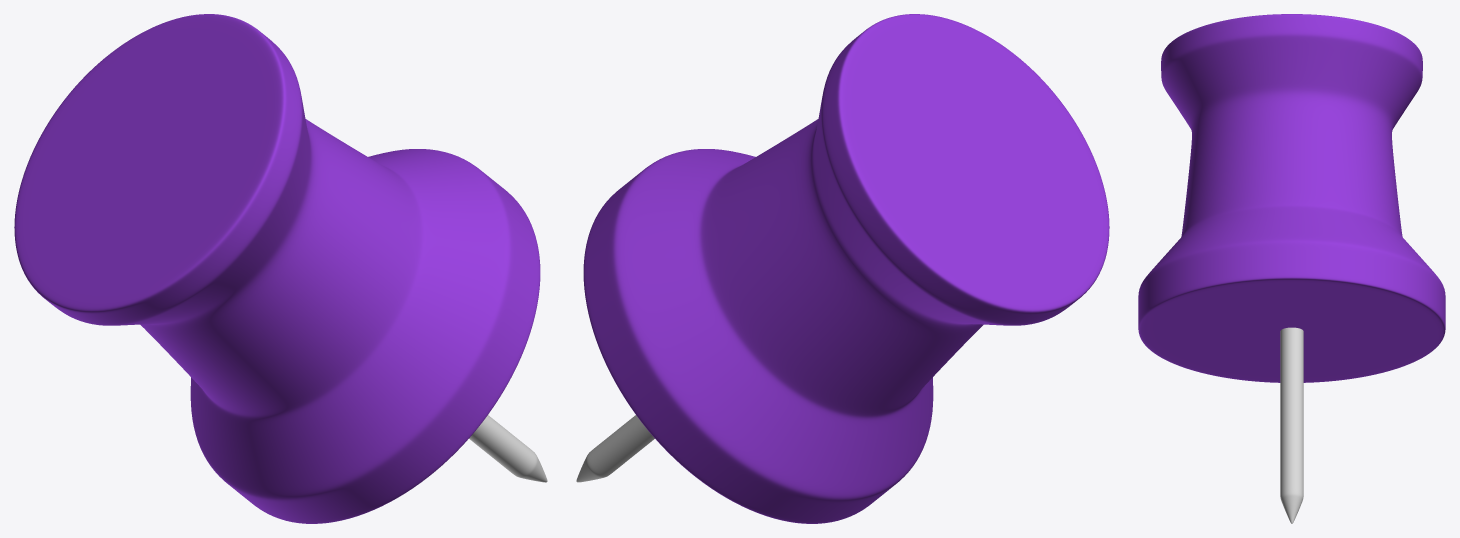
The model's file is pin.fbx.
3 views of the same model, side by side, from view 1: azimuth 30°, elevation 25°; view 2: azimuth 150°, elevation 25°; view 3: azimuth 270°, elevation 25° (orthographic). The views are drawn at different scales.
Visible parts, largest first — view 1: Circle.013; view 2: Circle.013; view 3: Circle.013.
Part boxes in pixels (x1,y1,x2,y2): Circle.013: [14, 14, 547, 523]; Circle.013: [576, 14, 1109, 523]; Circle.013: [1138, 14, 1445, 523].
Size of the model in its own units: 174 by 174 by 121.
